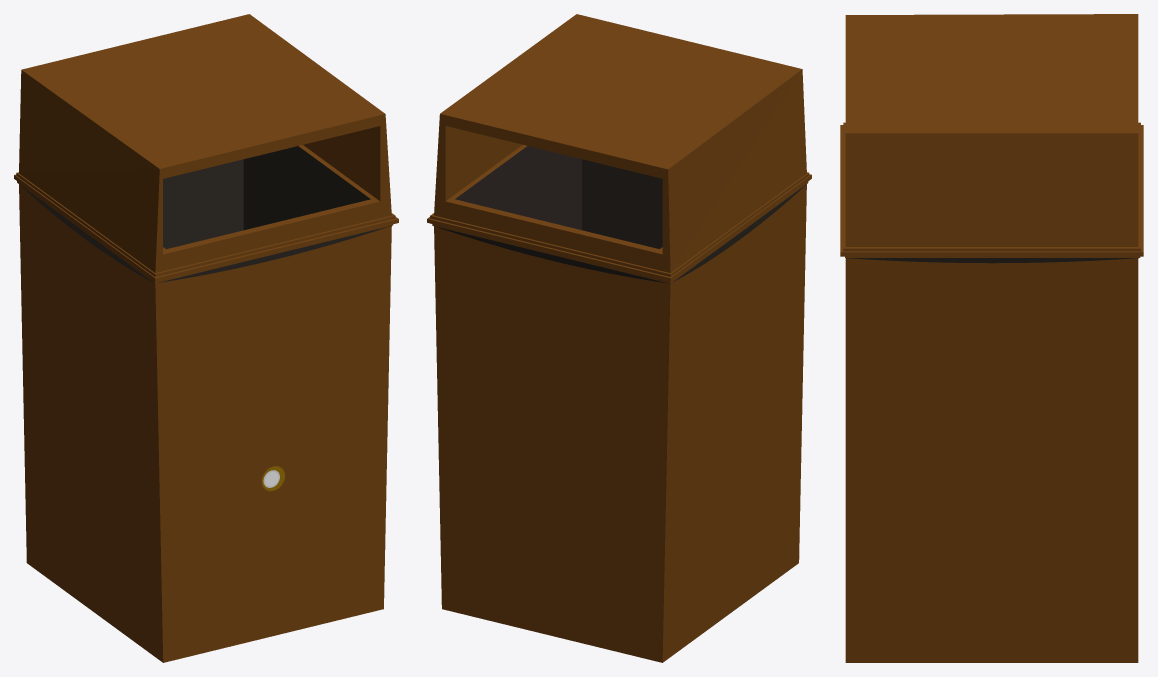
Rendered from tempat sampah.fbx.
3 views of the same model, side by side, from view 1: azimuth 30°, elevation 25°; view 2: azimuth 150°, elevation 25°; view 3: azimuth 270°, elevation 25° (orthographic). The views are drawn at different scales.
Parts seen in each view (by area): view 1: Sketchup; view 2: Sketchup; view 3: Sketchup.
Part boxes in pixels (left/top/right/bottom): Sketchup: left=14, top=14, right=398, bottom=662; Sketchup: left=427, top=14, right=811, bottom=662; Sketchup: left=840, top=14, right=1143, bottom=662.
Size of the model in its own units: 39.26 by 76.23 by 39.47.
